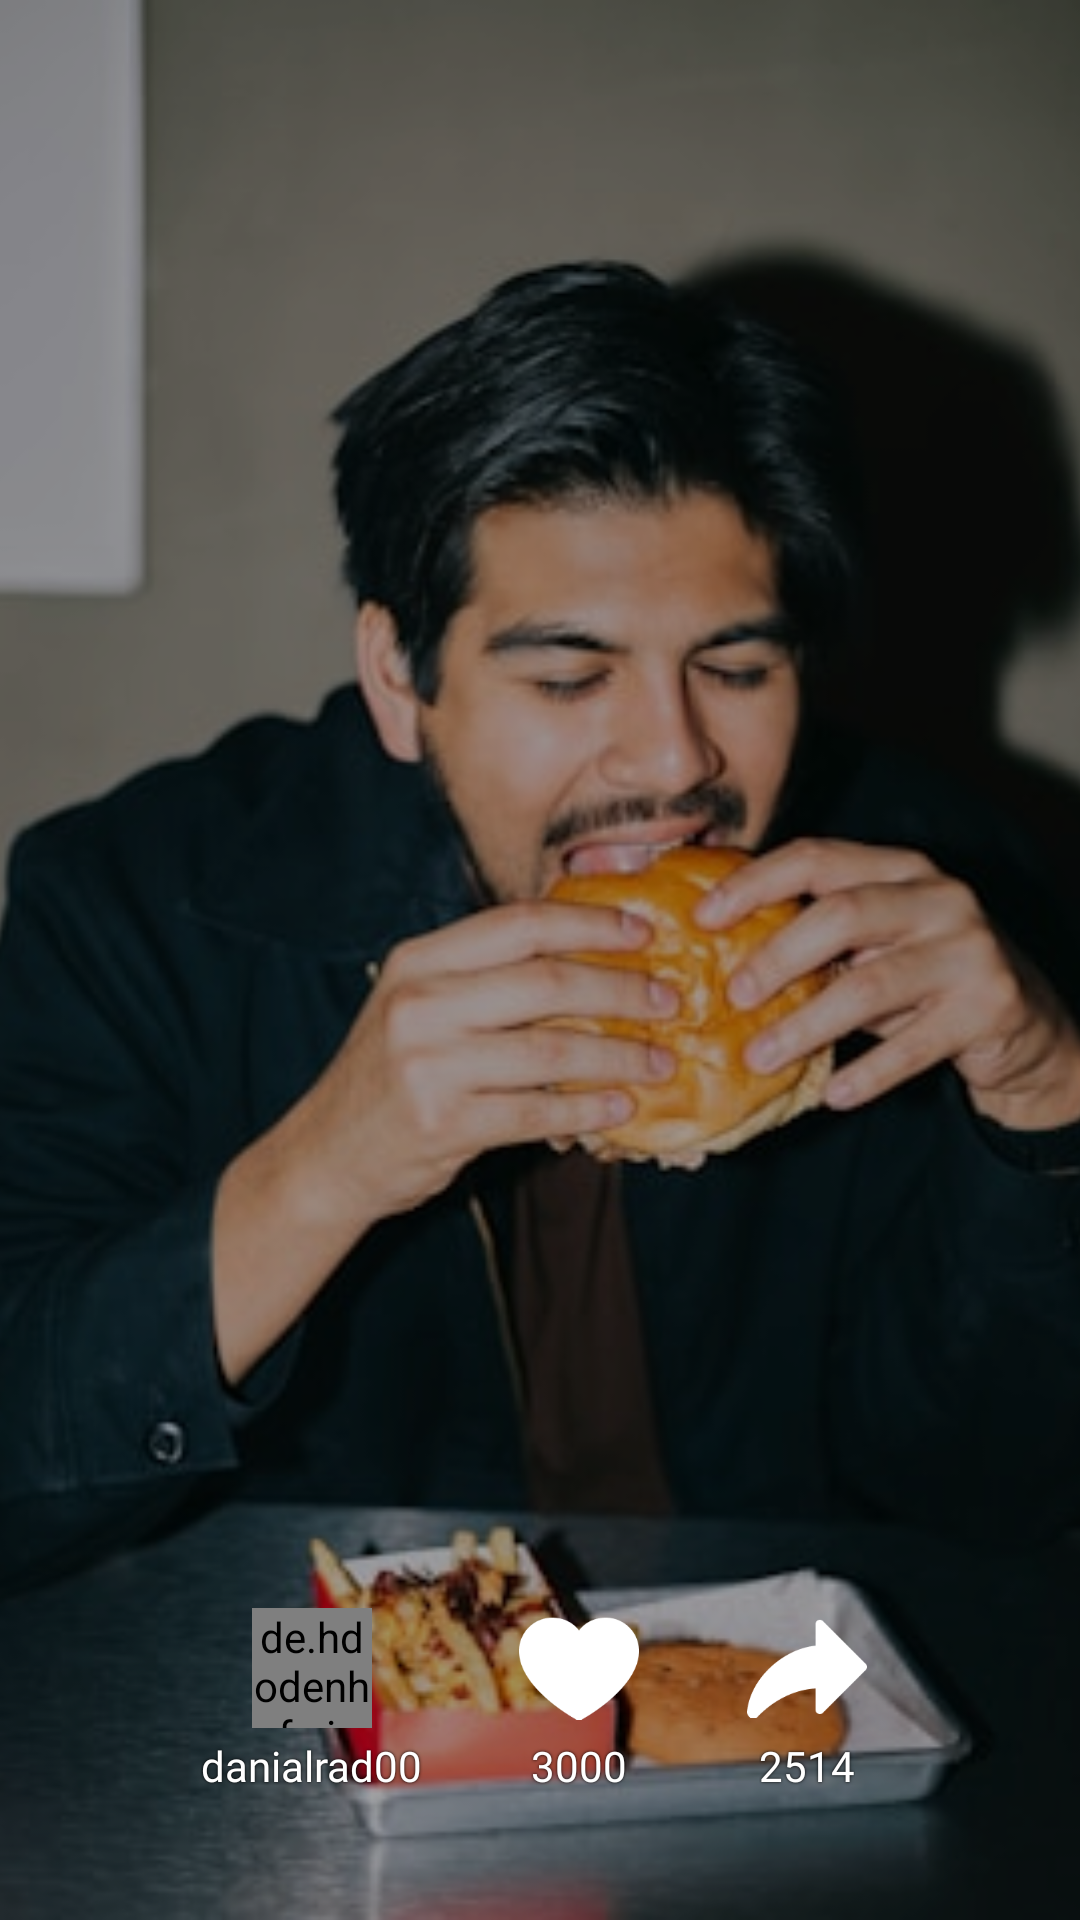

Named icons in this screenshot (1080*1920) and their centers, [x,y]:
like: [579,1668]
share: [807,1668]
